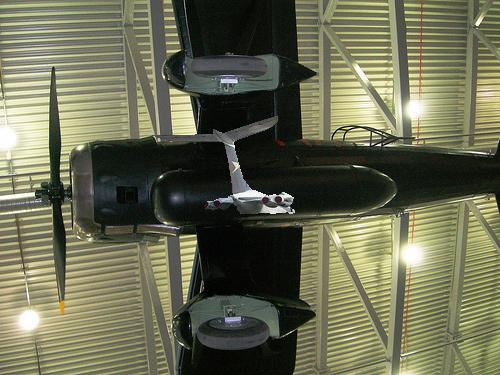tampered: (153, 116, 295, 214)
